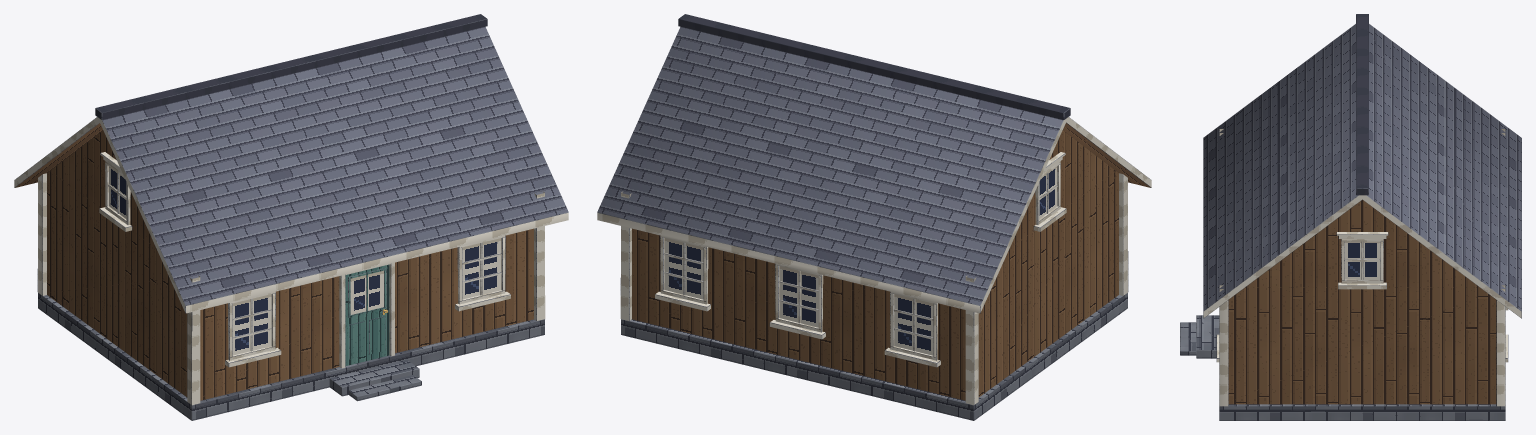
File: town_house_3.glb
3 renders of one model, left to right at view 1: azimuth 30°, elevation 25°; view 2: azimuth 150°, elevation 25°; view 3: azimuth 270°, elevation 25°, orthographic. The views are drawn at different scales.
Parts seen in each view (by area): view 1: town_house_4; view 2: town_house_4; view 3: town_house_4.
Boxes of the visible parts, x1,y1,x2,y2 form: town_house_4: (14, 14, 568, 420); town_house_4: (597, 14, 1151, 420); town_house_4: (1180, 14, 1521, 420).
Size of the model in its own units: 8.96 by 5.73 by 7.4.
Materials: 9 (9 with a texture image).
